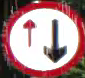Two way: (4, 0, 83, 77)
